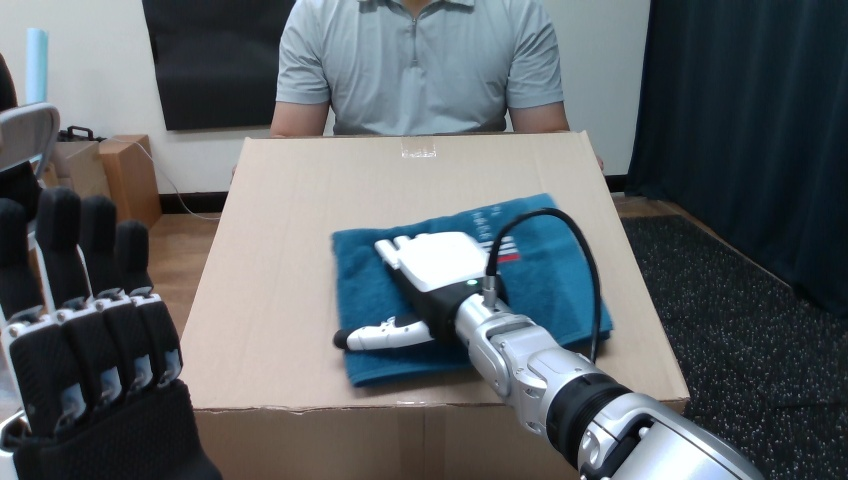left robot hand: (333, 207, 761, 479), (496, 215, 594, 358)
